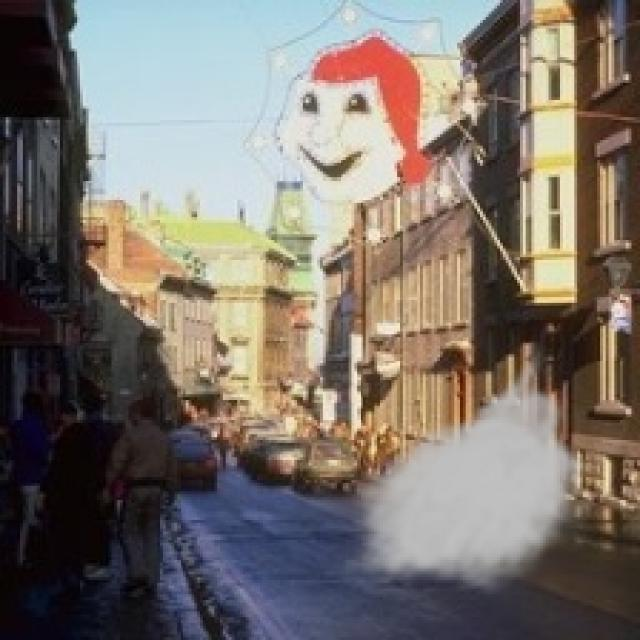Smoke: (343, 340, 594, 594)
